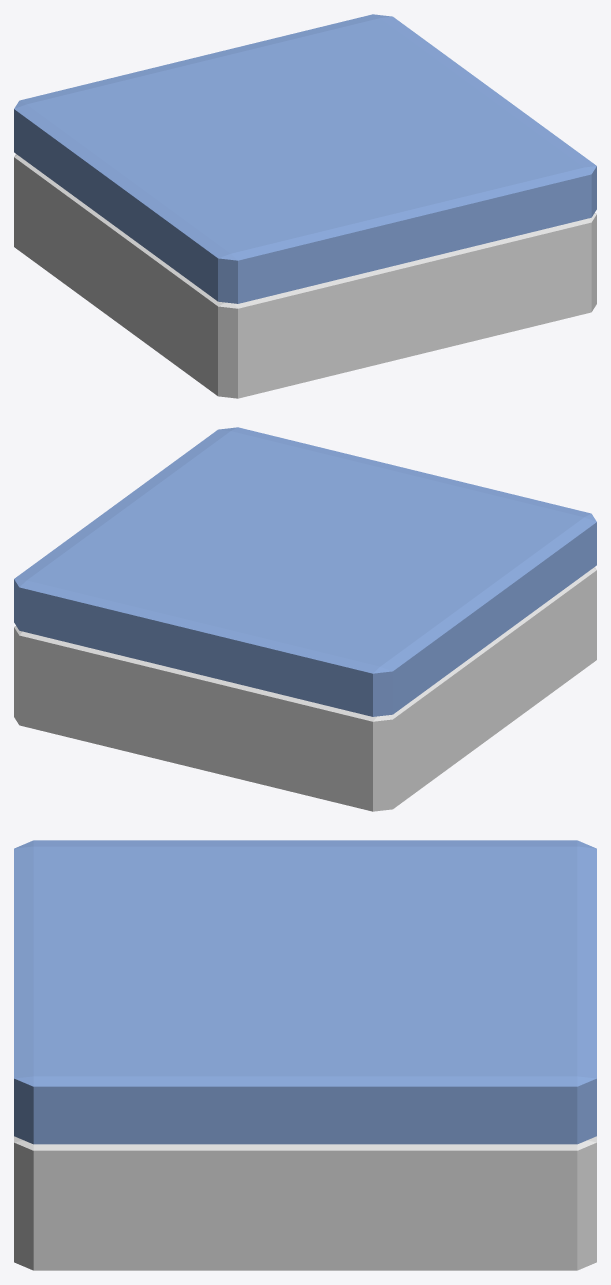
3 views of the same model, one above another, from view 1: azimuth 30°, elevation 25°; view 2: azimuth 150°, elevation 25°; view 3: azimuth 270°, elevation 25° (orthographic). The views are drawn at different scales.
Visible parts, largest first — view 1: 1; view 2: 1; view 3: 1.
Boxes of the visible parts, x1,y1,x2,y2 form: 1: [14, 14, 596, 398]; 1: [14, 427, 596, 811]; 1: [14, 840, 596, 1270].
Bounding box in the file's own units: 200 × 72.02 × 200.
